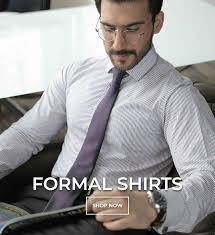F_shirt: (10, 53, 215, 224)
F_tie: (43, 65, 124, 211)
